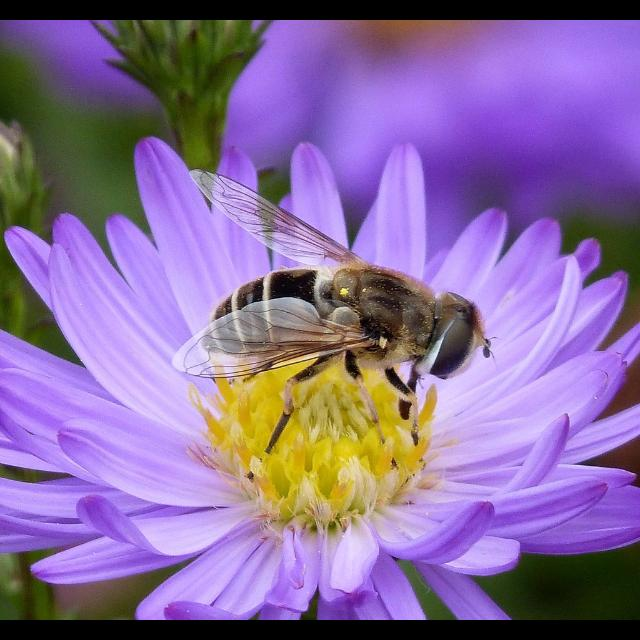Flower: (1, 130, 640, 620)
